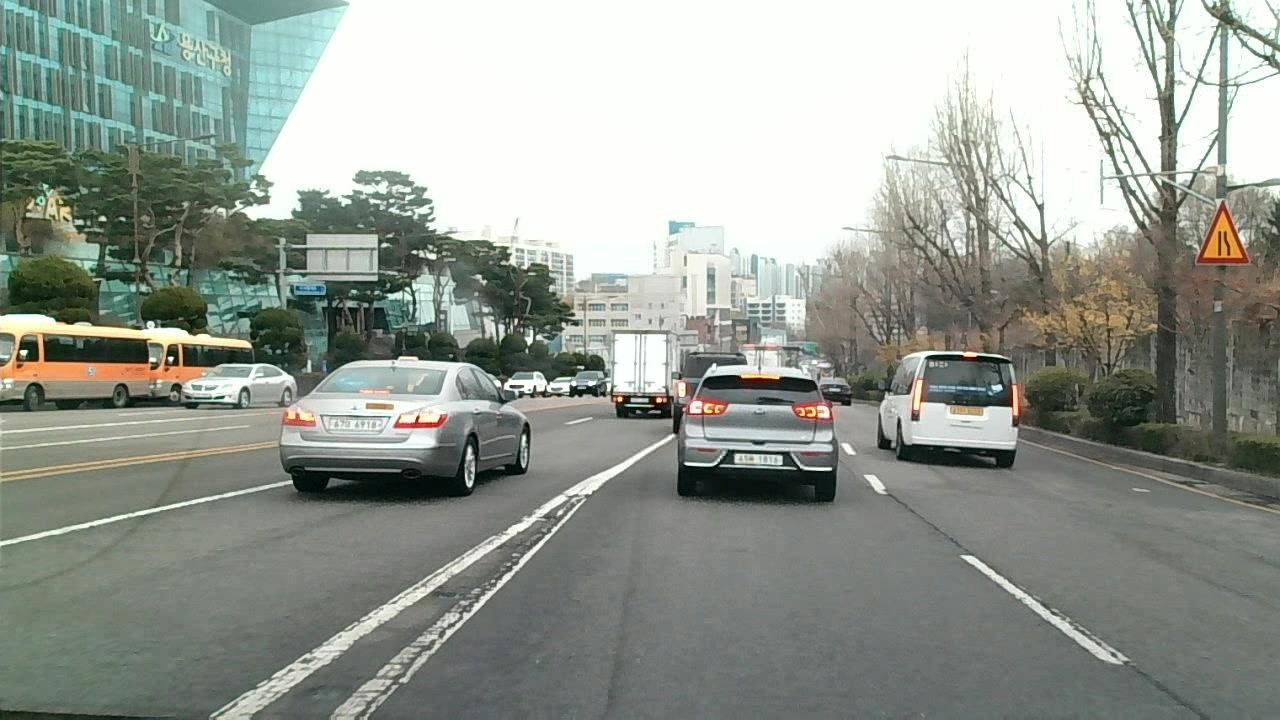vcrack: (887, 488, 1049, 610), (1062, 616, 1215, 720), (338, 621, 466, 720), (476, 500, 577, 604)
